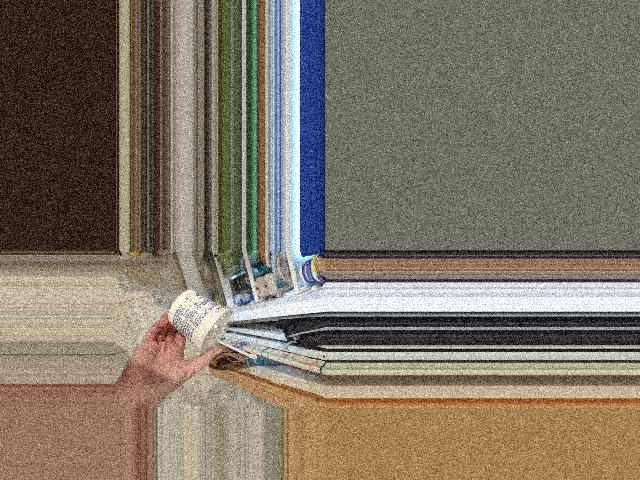cotage: (165, 297, 236, 353)
